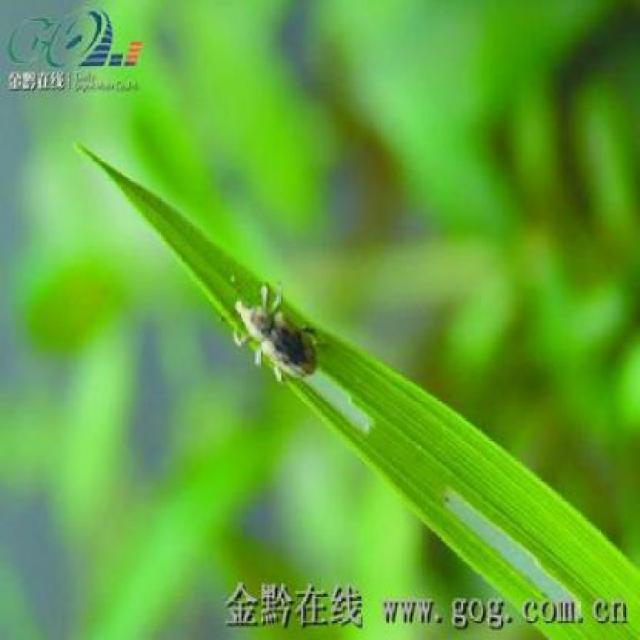rice-bug: (232, 268, 323, 382)
